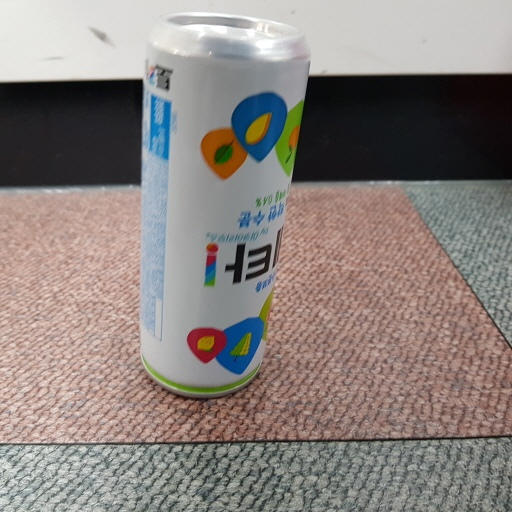Metal_0: (137, 11, 311, 399)
